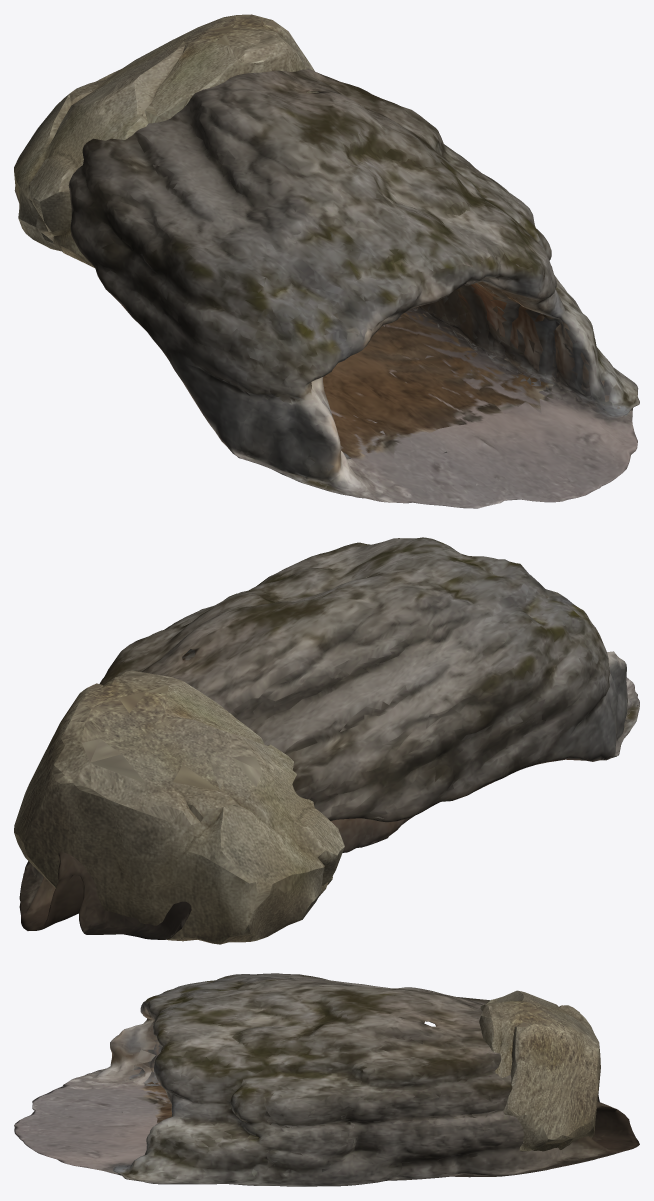
3 views of the same model, one above another, from view 1: azimuth 30°, elevation 25°; view 2: azimuth 150°, elevation 25°; view 3: azimuth 270°, elevation 25° (orthographic). The views are drawn at different scales.
Parts seen in each view (by area): view 1: Mesh_0; view 2: Mesh_0; view 3: Mesh_0.
Part boxes in pixels (x1,y1,x2,y2): Mesh_0: (14, 14, 639, 508); Mesh_0: (14, 537, 639, 944); Mesh_0: (14, 973, 639, 1186).
Bounding box in the file's own units: 17.89 × 8.61 × 36.32.
2 materials, 2 textured.
